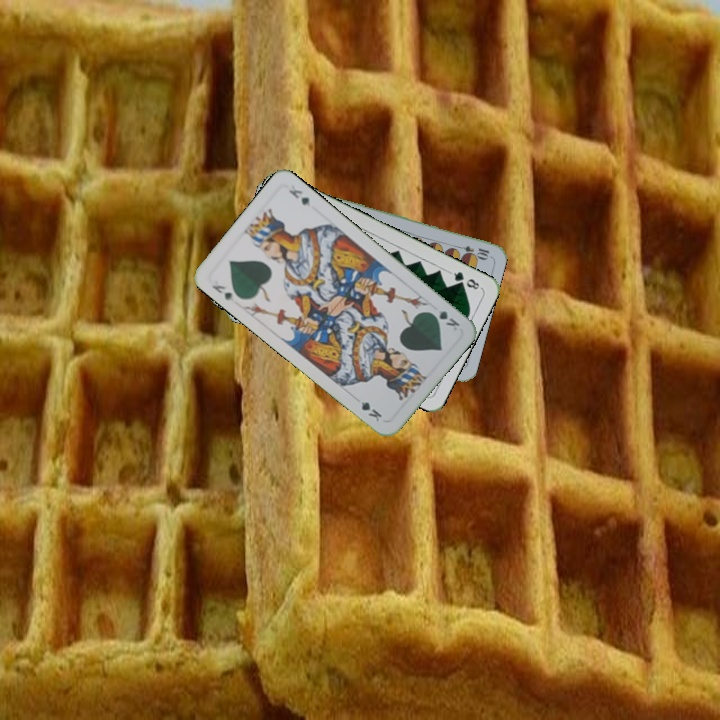E10: (451, 242, 492, 260)
G8: (446, 267, 484, 292)
GK: (425, 306, 463, 333), (208, 281, 238, 304)
